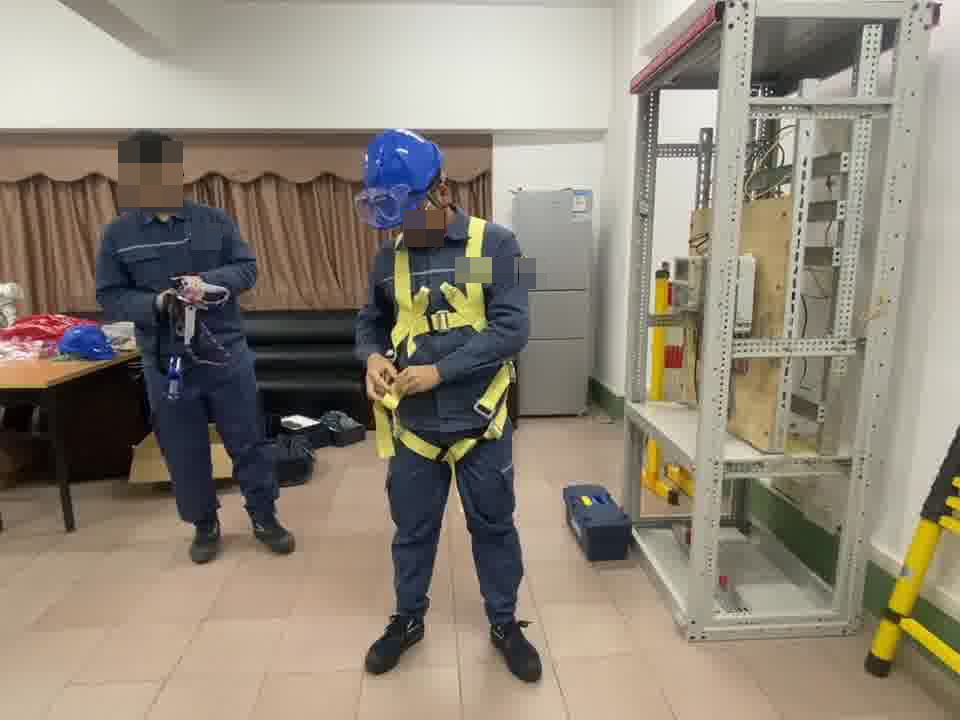downsuit: (385, 424, 531, 623), (144, 353, 267, 519)
halt: (359, 131, 447, 238), (120, 132, 188, 211)
hand: (363, 352, 440, 406)
inear: (421, 175, 455, 224)
person: (352, 131, 543, 672), (95, 131, 291, 556)
safebelt: (368, 215, 524, 464)
sleeve: (515, 251, 532, 283)
unhalt: (121, 131, 188, 212)
upsuit: (358, 206, 530, 432), (98, 202, 257, 327)
